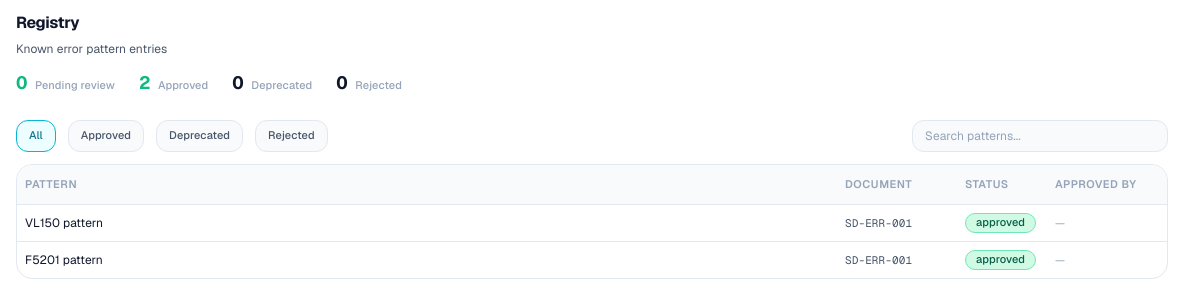
Scenario: AdminRegistryPage › filters the non-pending table by search query from the registrySearch store field
In the search field named "Search registry patterns": (1040, 136) [912, 120, 1168, 152], type "VL150"
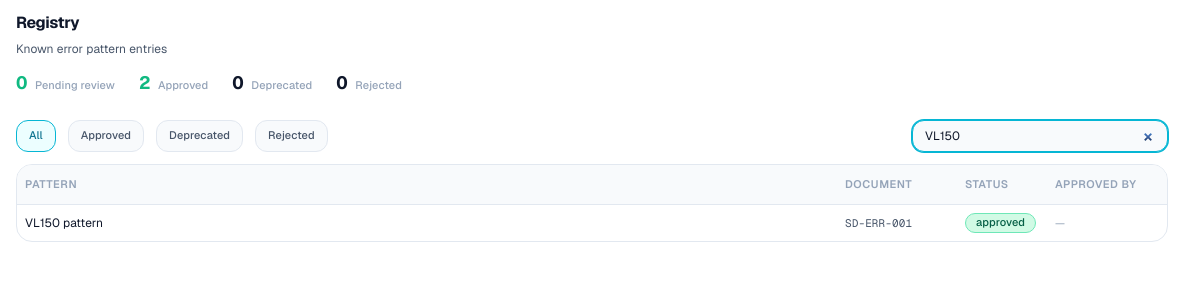
Check: the text "VL150 pattern" is shown, box [25, 215, 103, 231]
Check: the text "F5201 pattern" is gone
